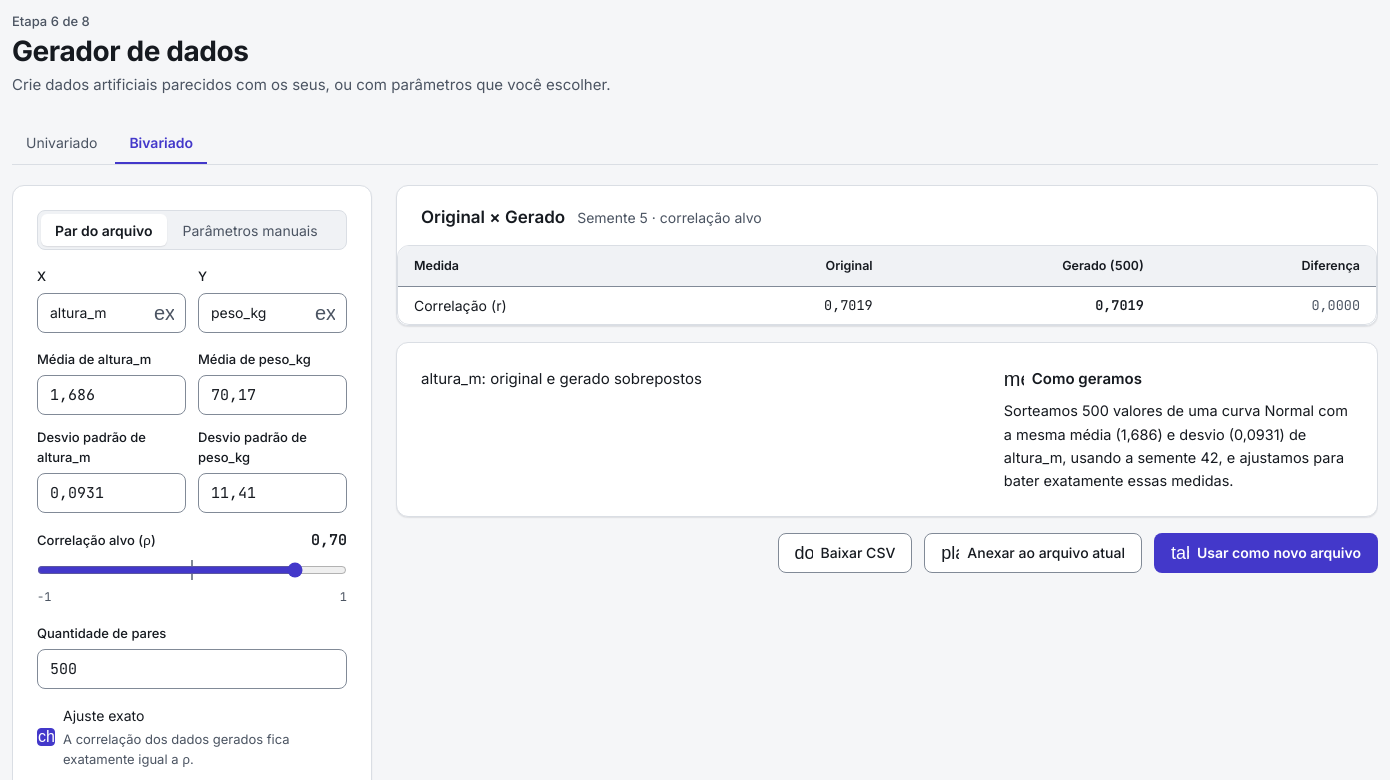
PaginaGerador › ao voltar para a etapa, mostra a última geração da sessão na aba do tipo dela
Expected: the heading "Original × Gerado" is shown, [421,206,565,229]
Expected: the text "Sorteamos 500 valores de uma curva Normal com a mesma média (1,686) e desvio (0,0931) de altura_m, usando a semente 42, " is shown, [1004,402,1348,489]
Click the tab "Univariado": point(62, 142) [12,120,111,164]
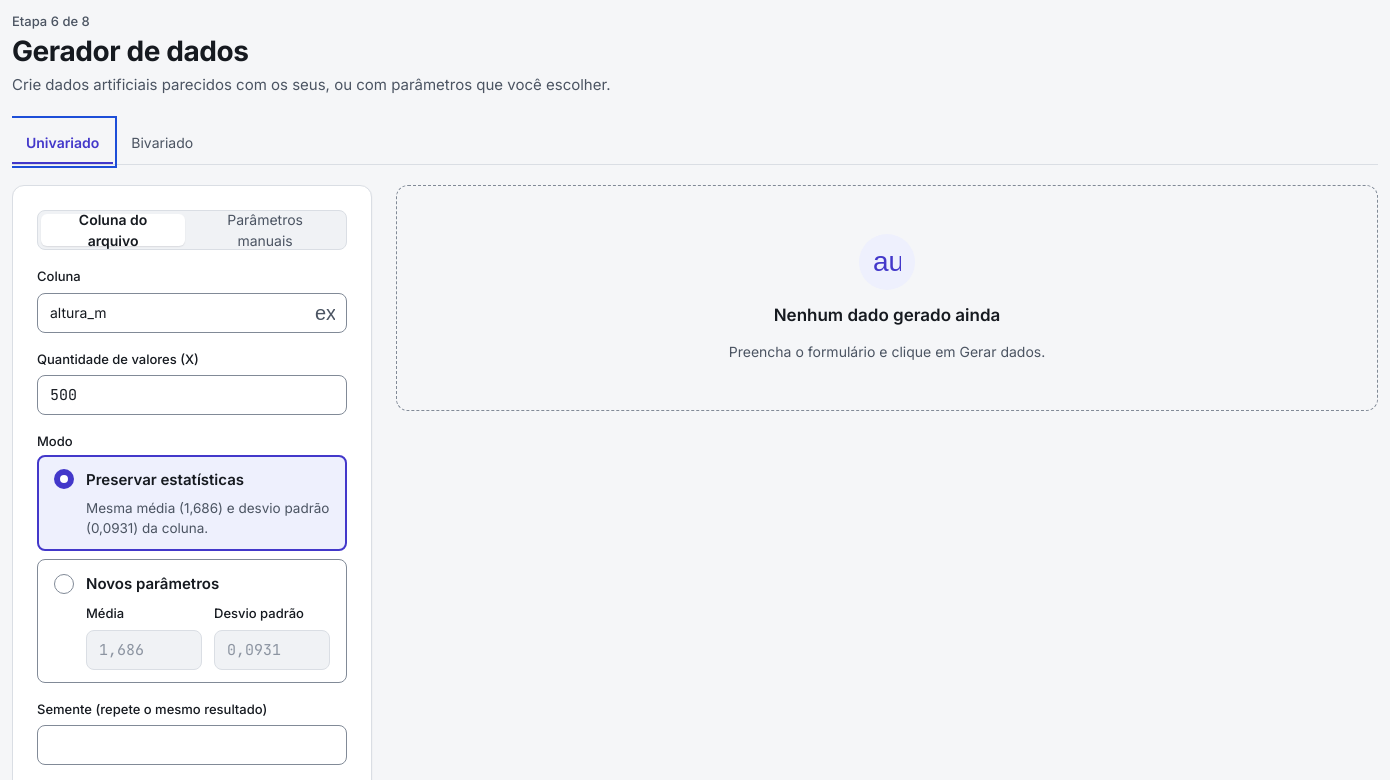
Expected: the heading "Nenhum dado gerado ainda" is shown, [774,302,1000,329]
